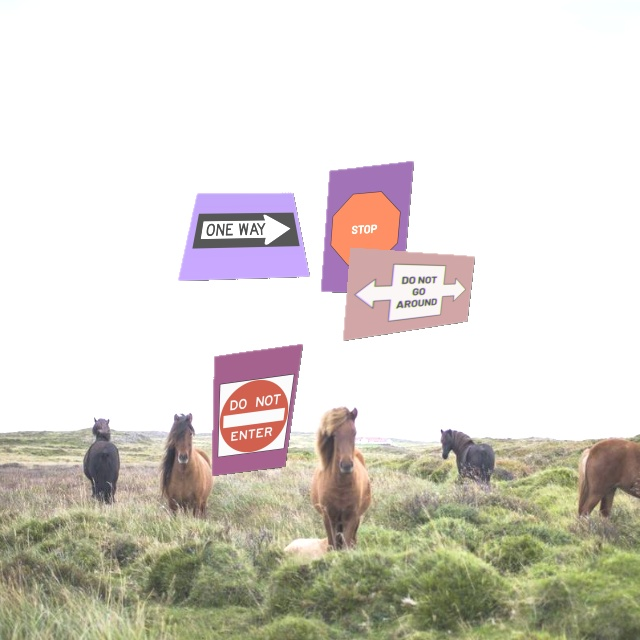DO_NOT_ENTER: (211, 368, 301, 463)
DO_NOT_GO_AROUND: (351, 263, 468, 326)
ONE_WAY_ right: (192, 209, 304, 253)
STOP: (329, 189, 403, 266)
